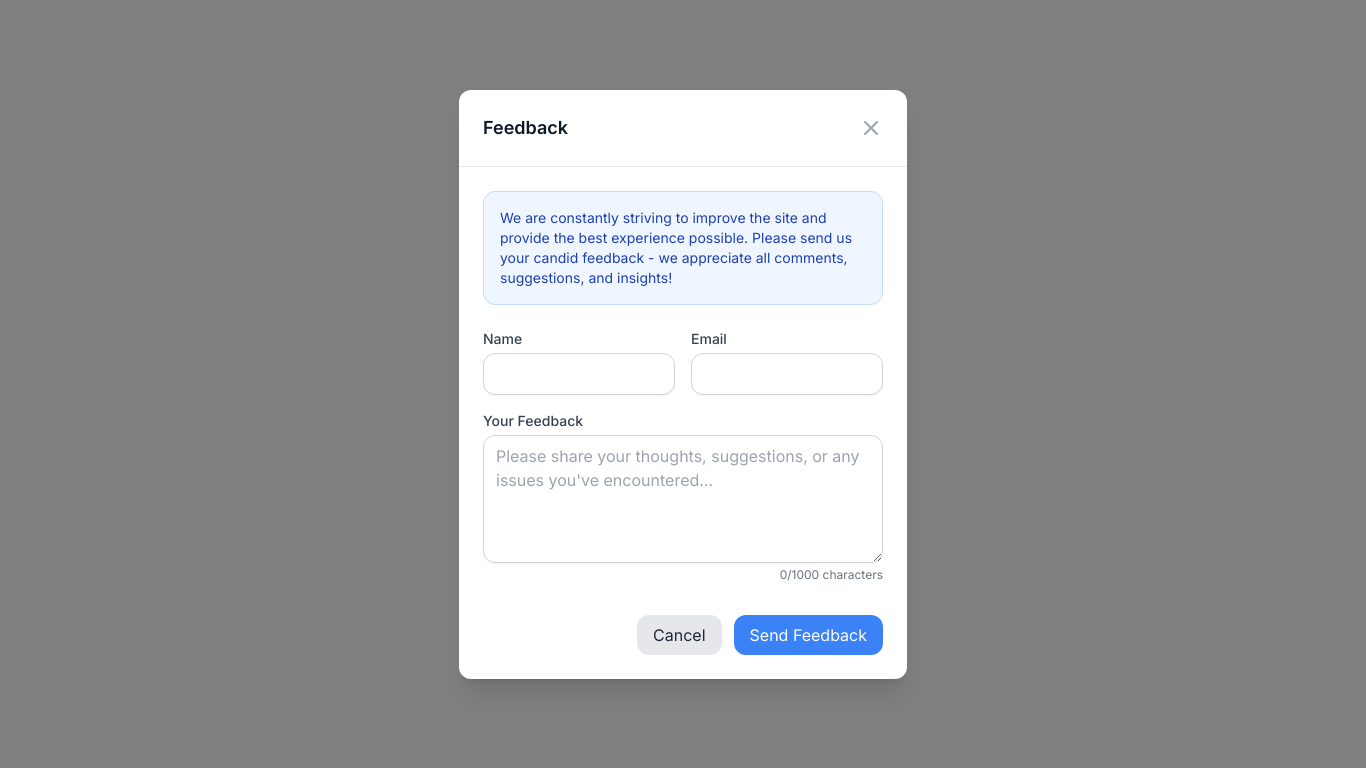
Test: FeedbackModal › submits feedback successfully
The image size is (1366, 768).
// Fill out form
Type "Test User" into the field labelled "Name".
click(579, 374); type("Test User")  # box 483,352 -> 675,394
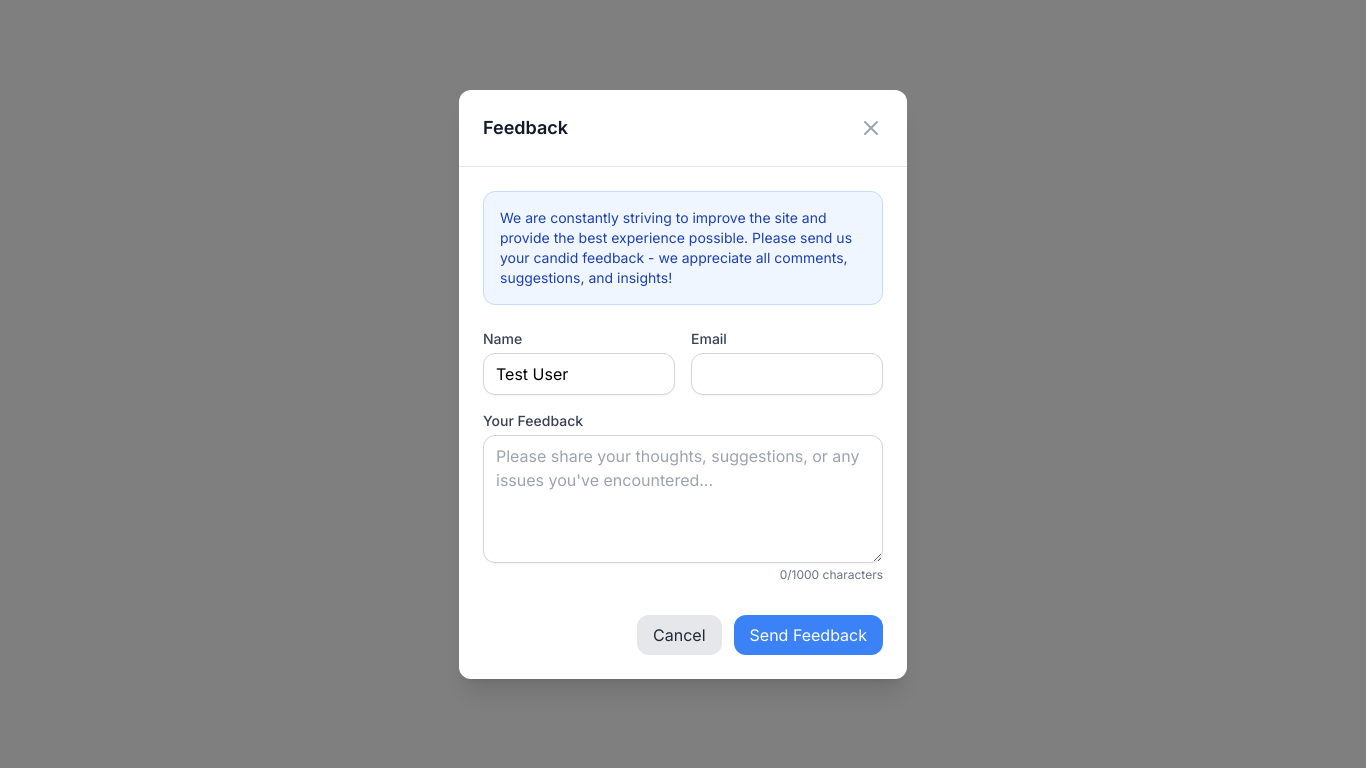
Type "test@example.com" into the field labelled "Email".
click(787, 374); type("test@example.com")  # box 691,352 -> 883,394
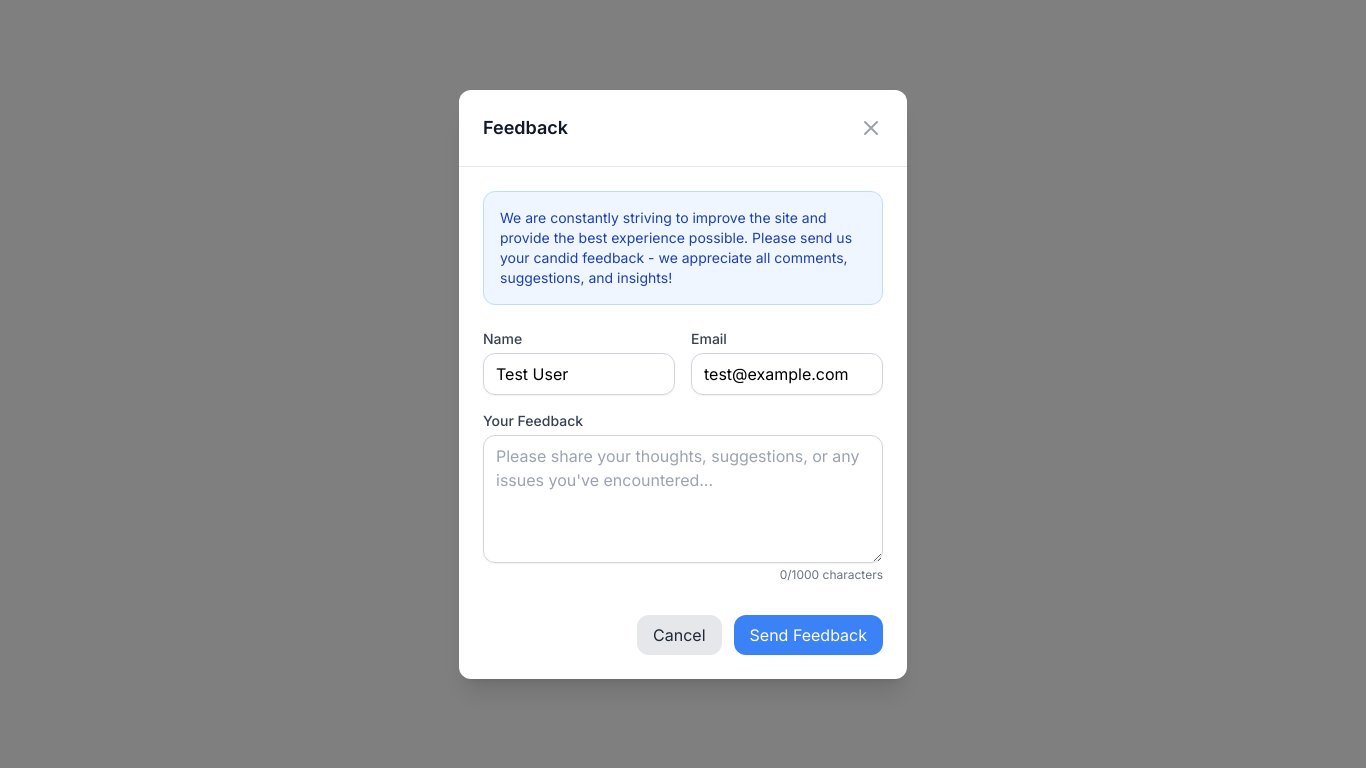
Replace the text in the text box labelled "Your Feedback" with "Test feedback" at x=683, y=498, box 483,434 -> 883,562
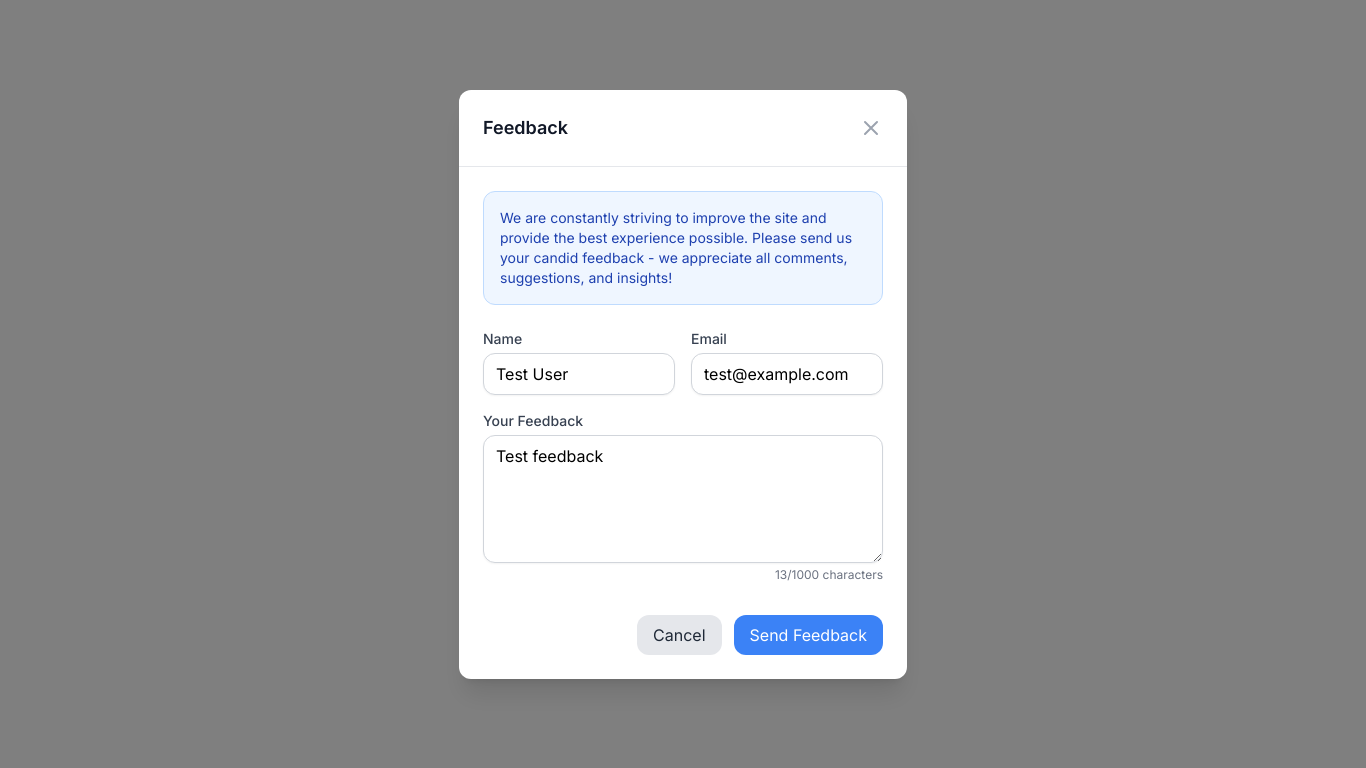
// Submit form
Submit the form with test id "feedback-form", box 483,328 -> 883,654
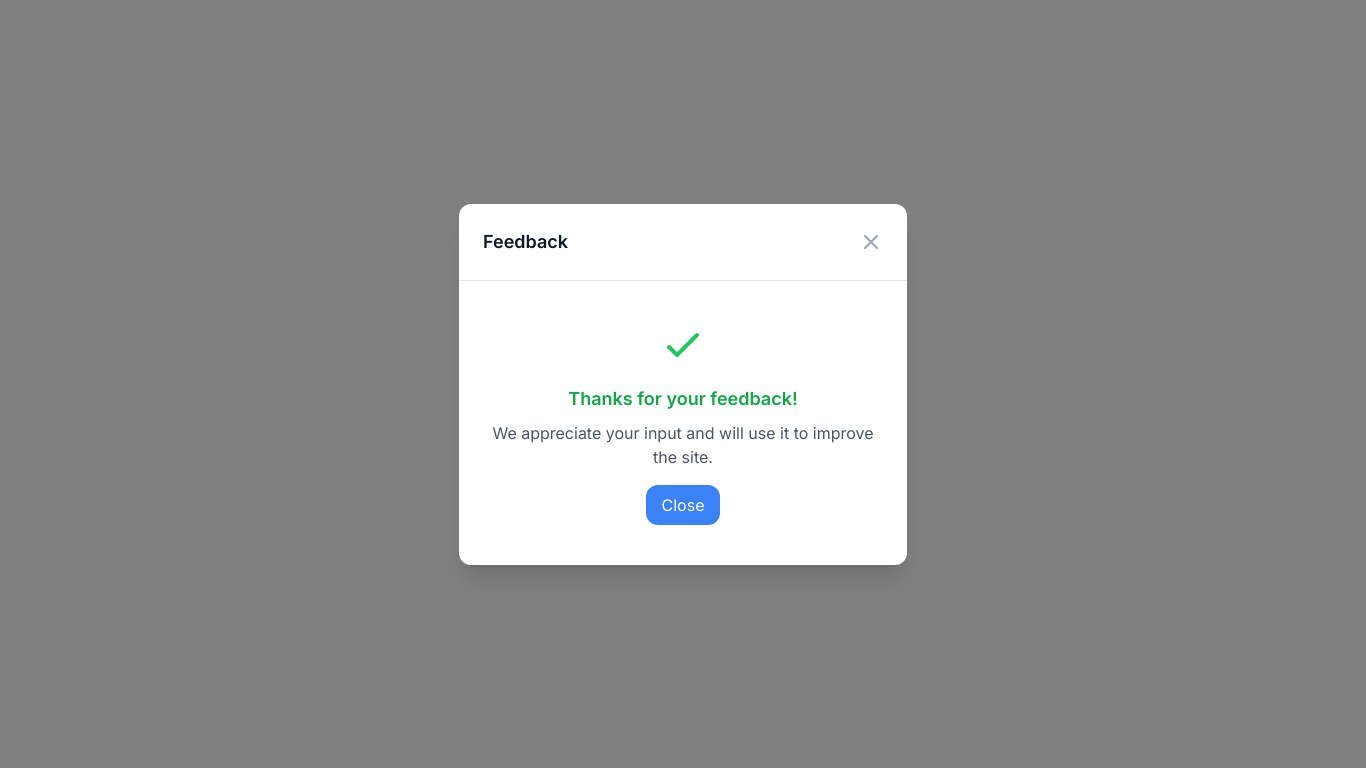
expect the heading "Thanks for your feedback!" is shown: met, box 568,388 -> 798,408
